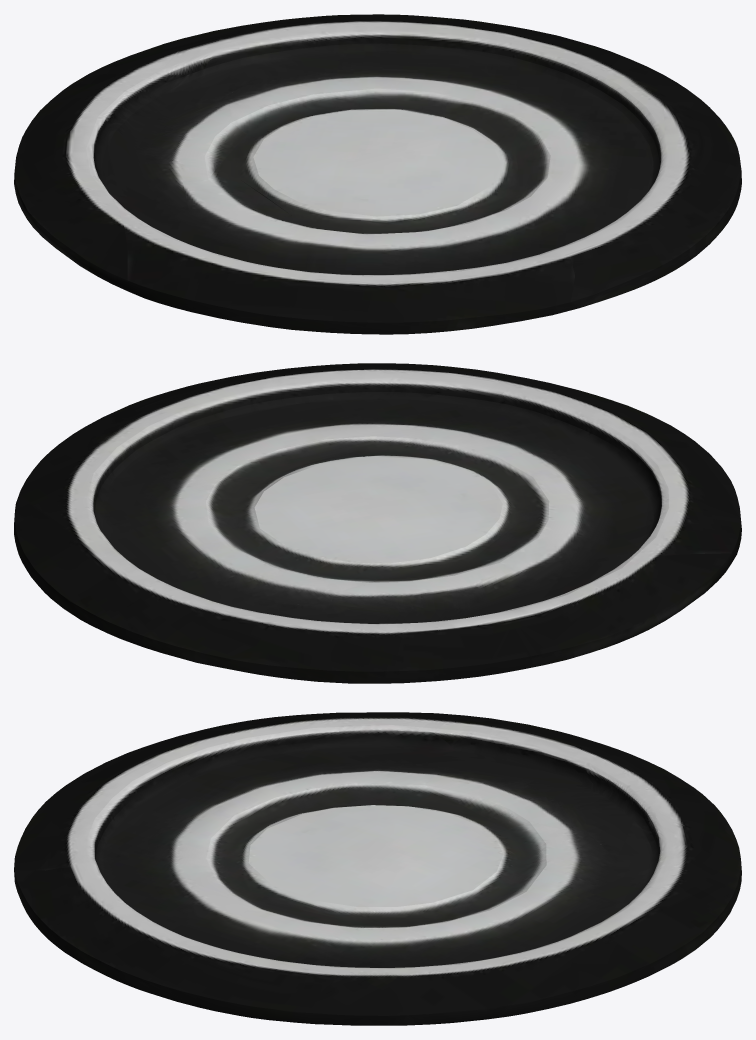
Rendered from m2SpawnPad.glb.
3 renders of one model, top to bottom at view 1: azimuth 30°, elevation 25°; view 2: azimuth 150°, elevation 25°; view 3: azimuth 270°, elevation 25°, orthographic.
Visible parts, largest first — view 1: model; view 2: model; view 3: model.
Part boxes in pixels (x1,y1,x2,y2): model: (14,14,741,334); model: (14,363,741,683); model: (14,712,741,1025).
Bounding box in the file's own units: 1.88 × 0.1766 × 1.9.
1 material, 1 textured.
